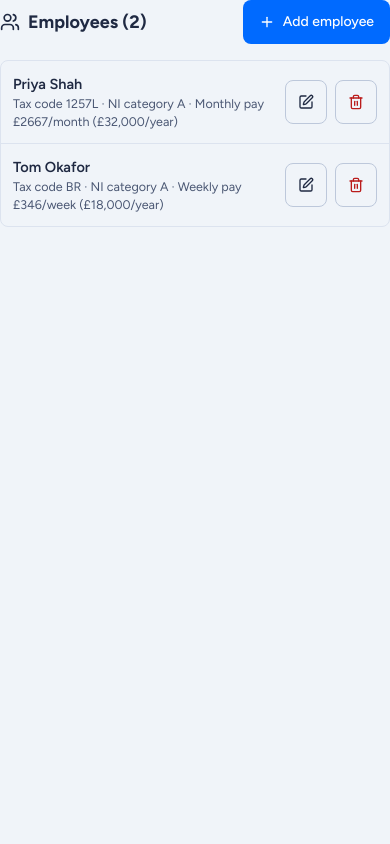
EmployeeList › Delete asks first and deletes only that employee for this user
The image size is (390, 844).
Later steps or results of the test are not shown.
Click the button named "Delete Priya Shah".
click(356, 102)  # box [335,80,377,124]
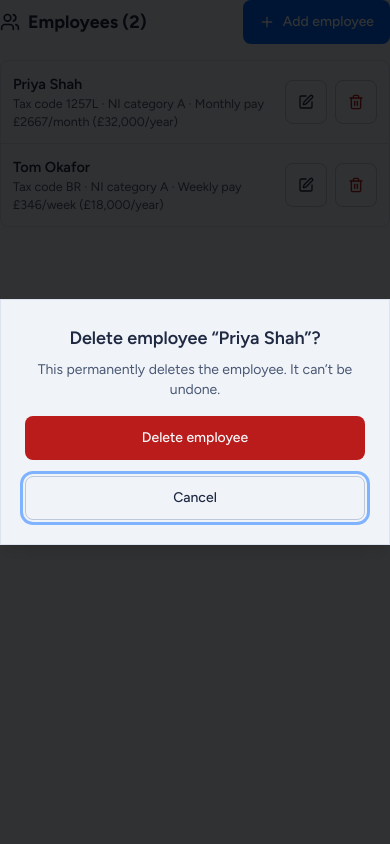
Check: the dialog shows "Delete employee “Priya Shah”?", box [69,327,321,349]
